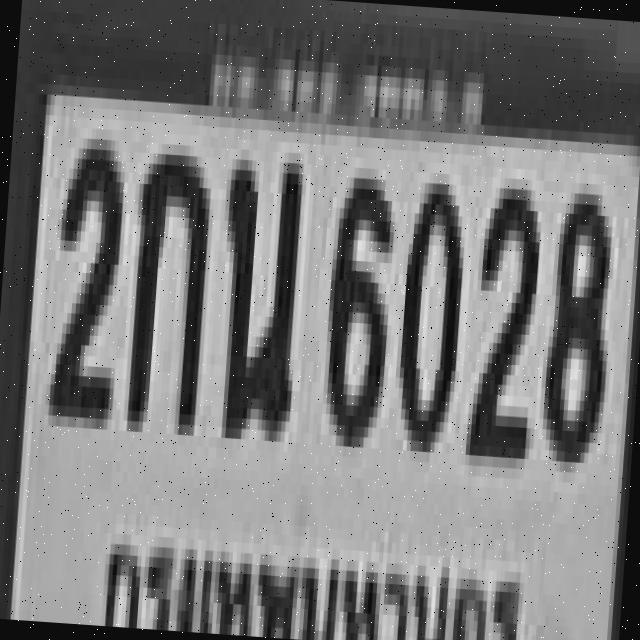0: (390, 171, 464, 443)
10GorGai: (123, 142, 209, 424)
2: (44, 126, 124, 418), (461, 176, 540, 458)
34NorNu: (210, 148, 304, 431)
6: (316, 166, 394, 438)
8: (535, 181, 613, 453)
